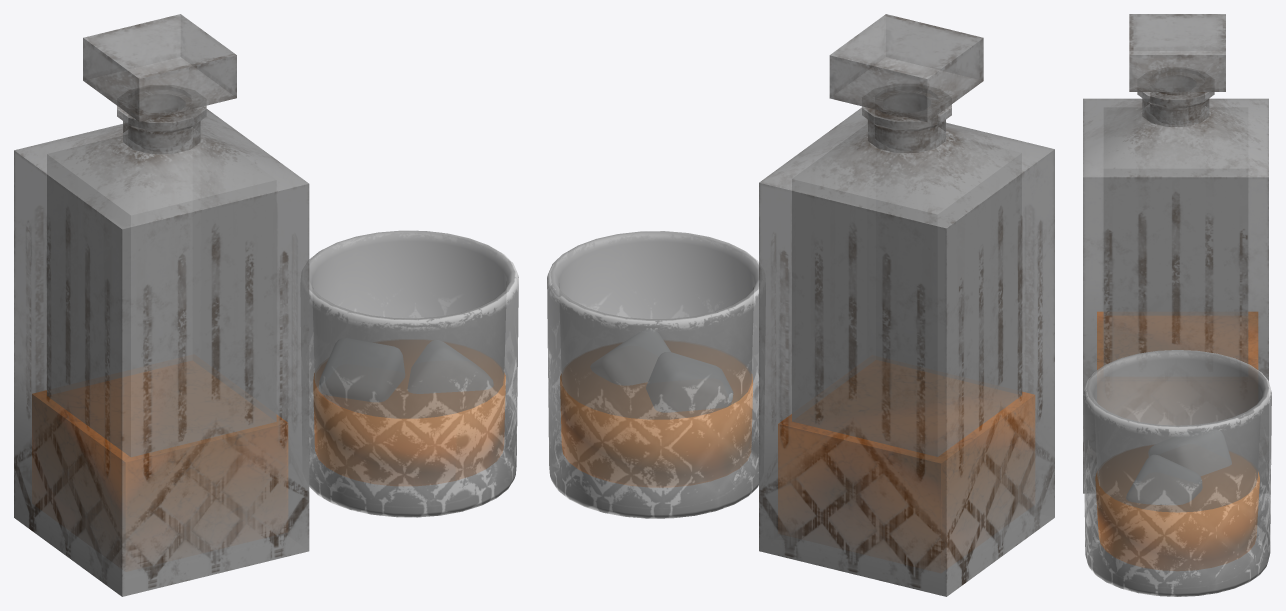
The model's file is whiskey_set.glb.
3 renders of one model, left to right at view 1: azimuth 30°, elevation 25°; view 2: azimuth 150°, elevation 25°; view 3: azimuth 270°, elevation 25°, orthographic. The views are drawn at different scales.
Visible parts, largest first — view 1: BottleLow, GlassLow, LiquidLow, Liquidlow, CorkLow, IcecubeLow, IcecubeLow.001; view 2: BottleLow, GlassLow, LiquidLow, Liquidlow, CorkLow, IcecubeLow, IcecubeLow.001; view 3: BottleLow, GlassLow, Liquidlow, CorkLow, LiquidLow, IcecubeLow, IcecubeLow.001.
Boxes of the visible parts, bbox=[...] form: BottleLow: bbox=[14, 90, 309, 596]; GlassLow: bbox=[309, 230, 518, 517]; LiquidLow: bbox=[32, 361, 287, 537]; Liquidlow: bbox=[313, 340, 505, 485]; CorkLow: bbox=[83, 14, 236, 147]; IcecubeLow: bbox=[319, 338, 404, 391]; IcecubeLow.001: bbox=[414, 340, 492, 381]; BottleLow: bbox=[759, 90, 1054, 596]; GlassLow: bbox=[547, 231, 758, 518]; LiquidLow: bbox=[778, 360, 1034, 539]; Liquidlow: bbox=[560, 341, 752, 486]; CorkLow: bbox=[829, 14, 983, 147]; IcecubeLow: bbox=[648, 352, 732, 403]; IcecubeLow.001: bbox=[609, 329, 669, 355]; BottleLow: bbox=[1083, 72, 1268, 493]; GlassLow: bbox=[1083, 350, 1271, 596]; Liquidlow: bbox=[1095, 446, 1259, 570]; CorkLow: bbox=[1129, 14, 1225, 121]; LiquidLow: bbox=[1097, 312, 1257, 369]; IcecubeLow: bbox=[1149, 429, 1230, 460]; IcecubeLow.001: bbox=[1127, 455, 1201, 494].
Size of the model in its own units: 0.3505 by 0.3734 by 0.1524.
2 materials, 2 textured.
